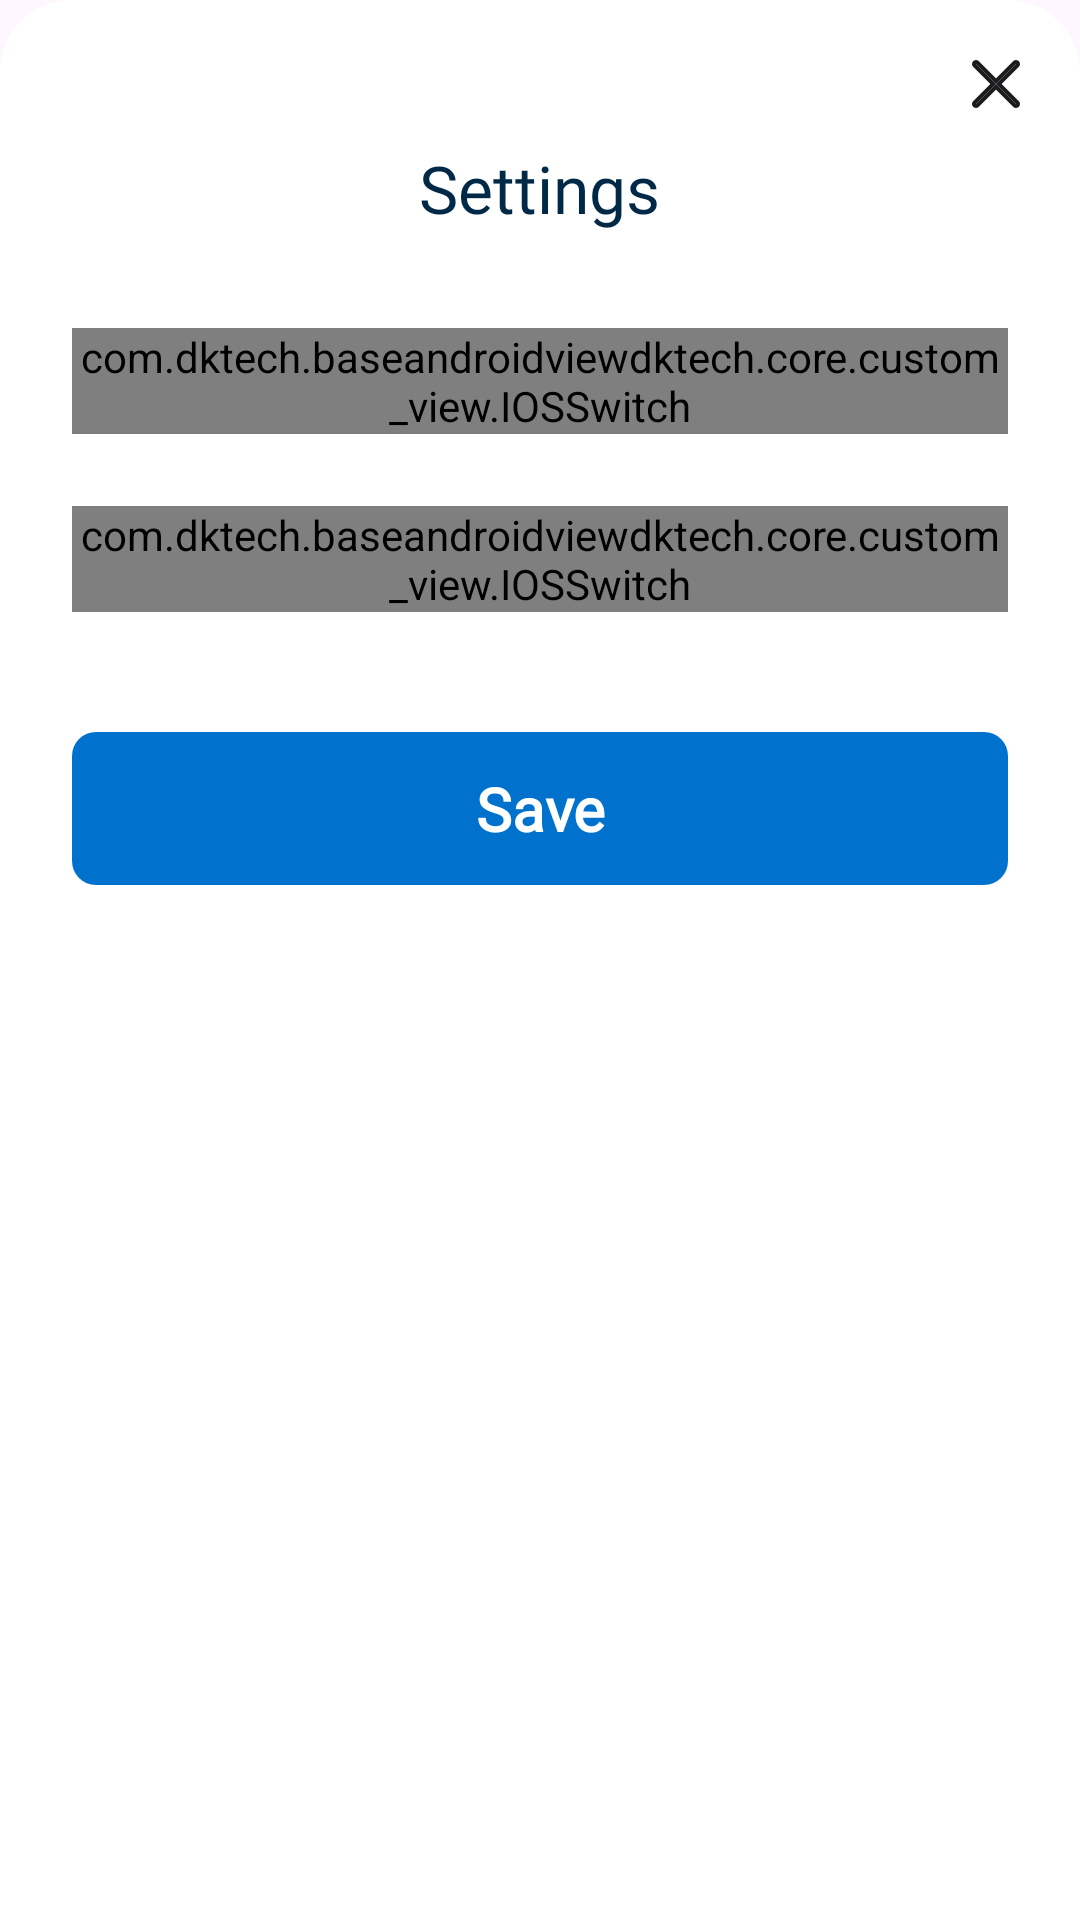

Icon click points for this 1080 × 1920 phone screenshot, format point (x, y):
Close: point (996, 84)
